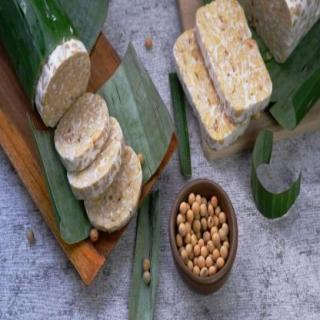Tempe: (24, 34, 147, 234), (168, 2, 276, 153)
